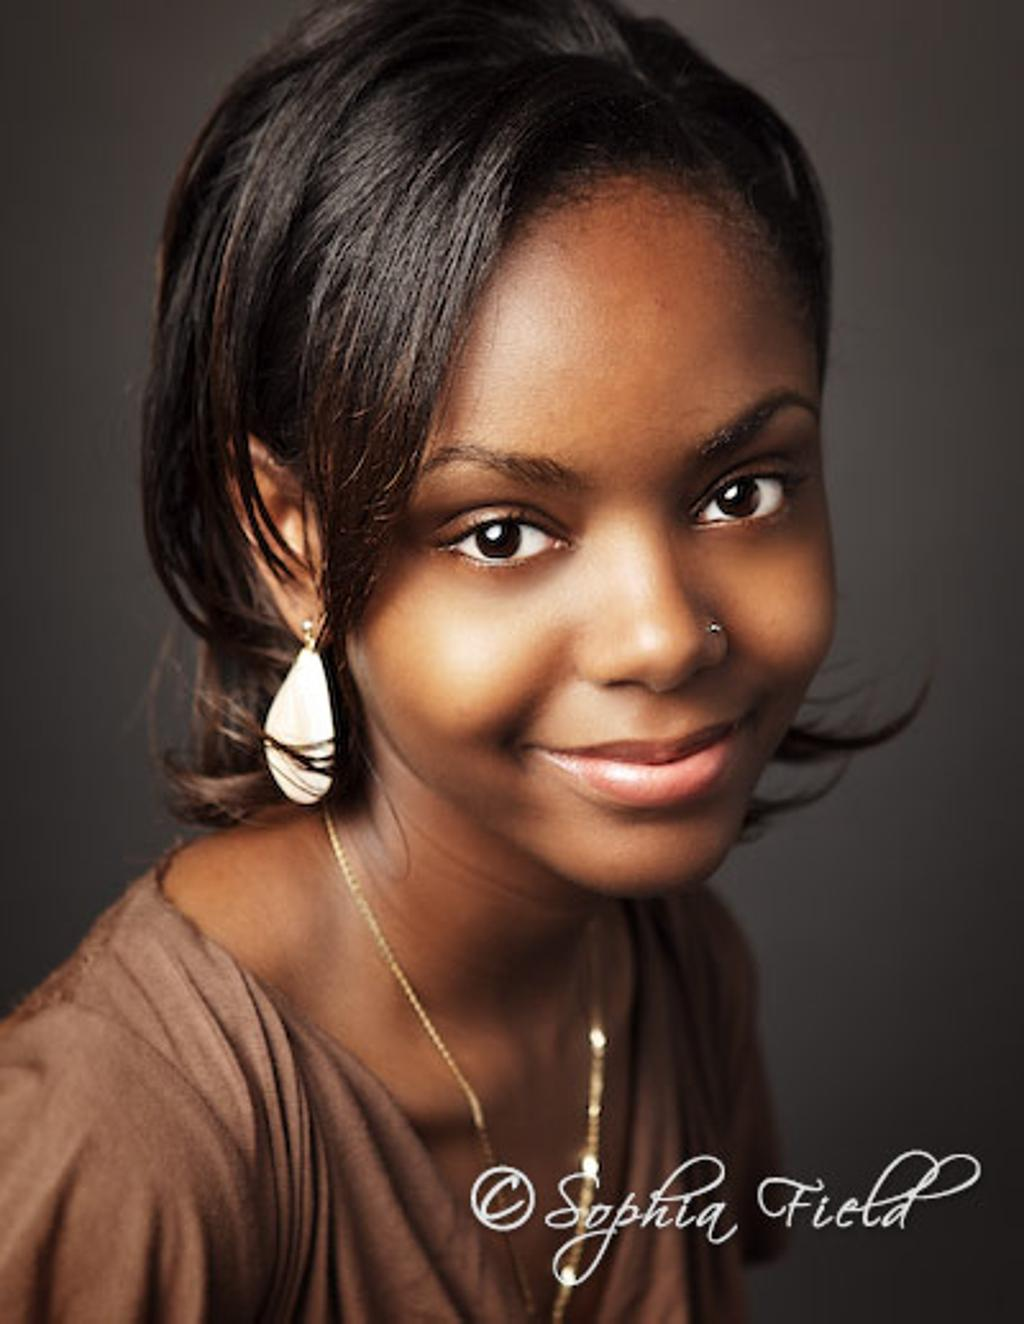face: (334, 197, 846, 900)
